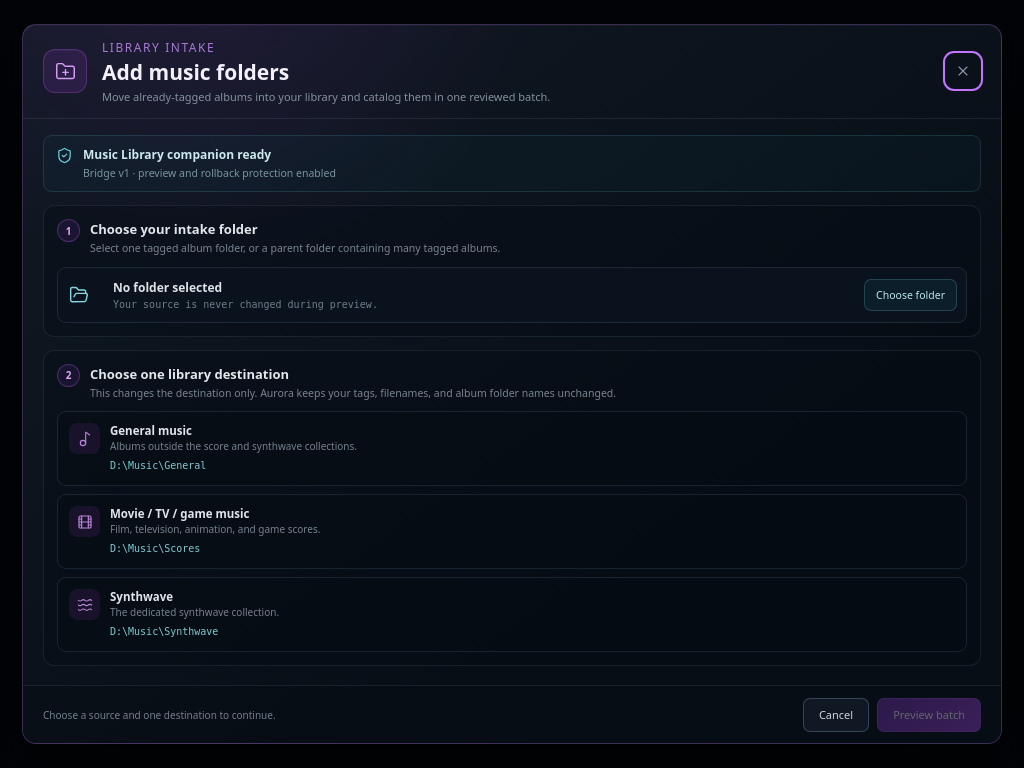
Test case: AddFolderDialog › invalidates a stale preview when the same source folder is chosen again
Expected: the text "Music Library companion ready" is shown, [83, 146, 271, 163]
Click the button "Choose folder" at (911, 295), box [864, 279, 957, 311]
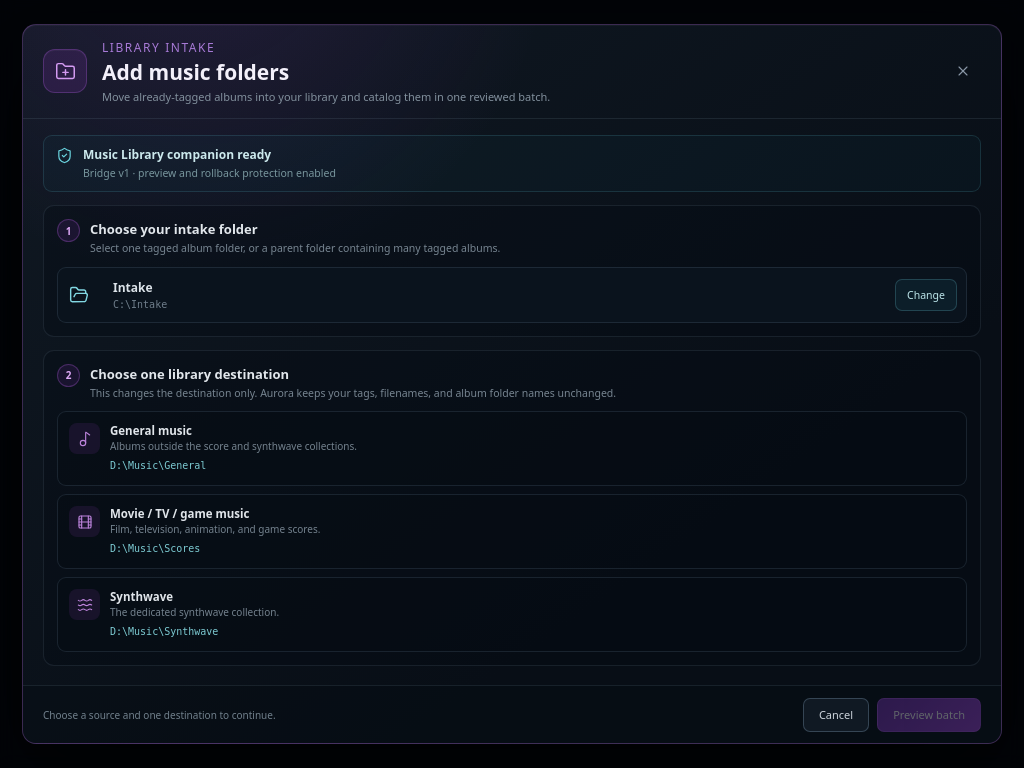
Now the text "C:\\Intake" is shown, box [113, 299, 167, 310]
Click the radio button labelled "Movie / TV / game music" at (84, 522), box [57, 494, 967, 570]
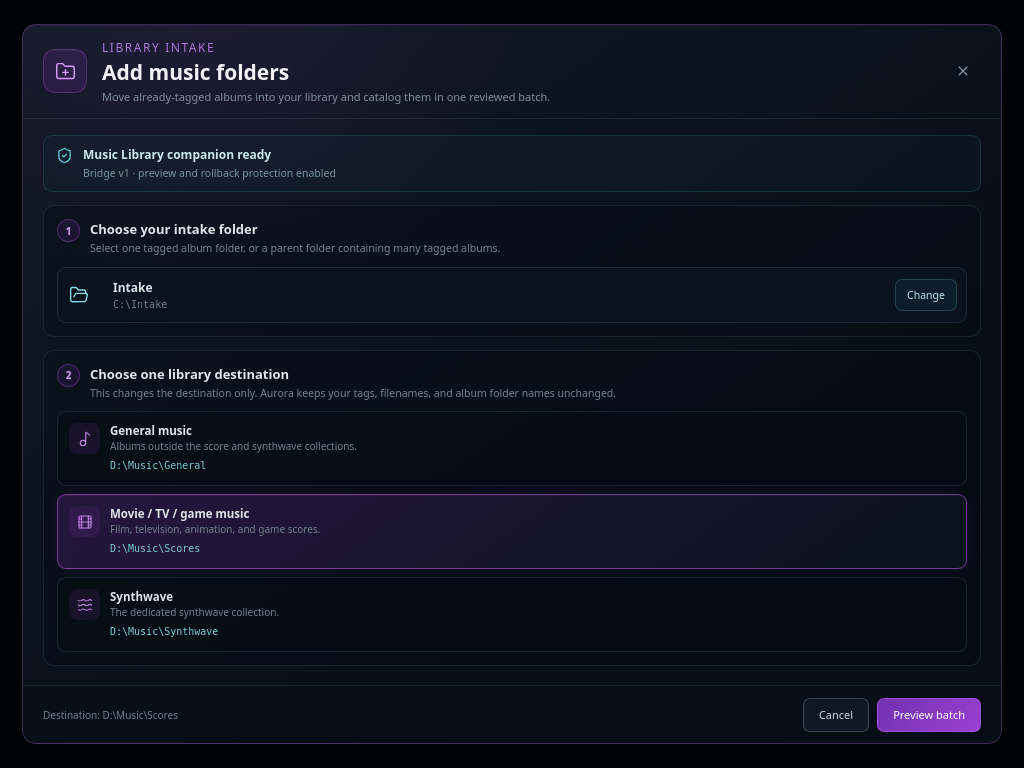
Click the button "Preview batch" at (929, 715), box [877, 698, 981, 732]
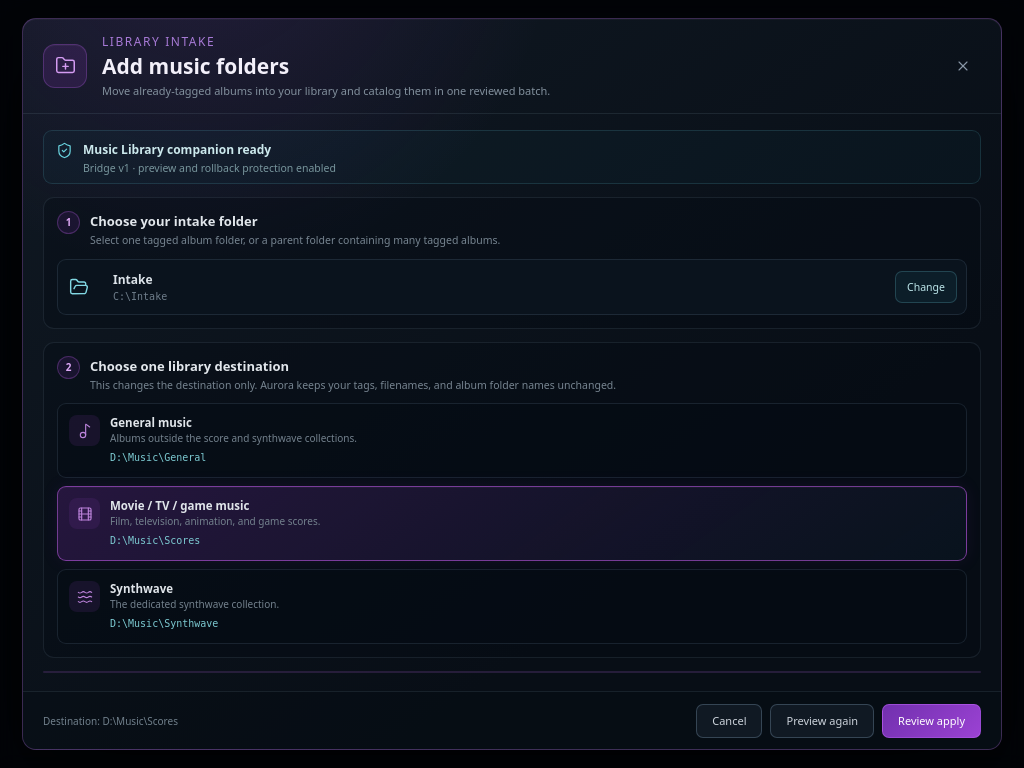
Click the button "Change" at (926, 286), box [895, 270, 957, 302]
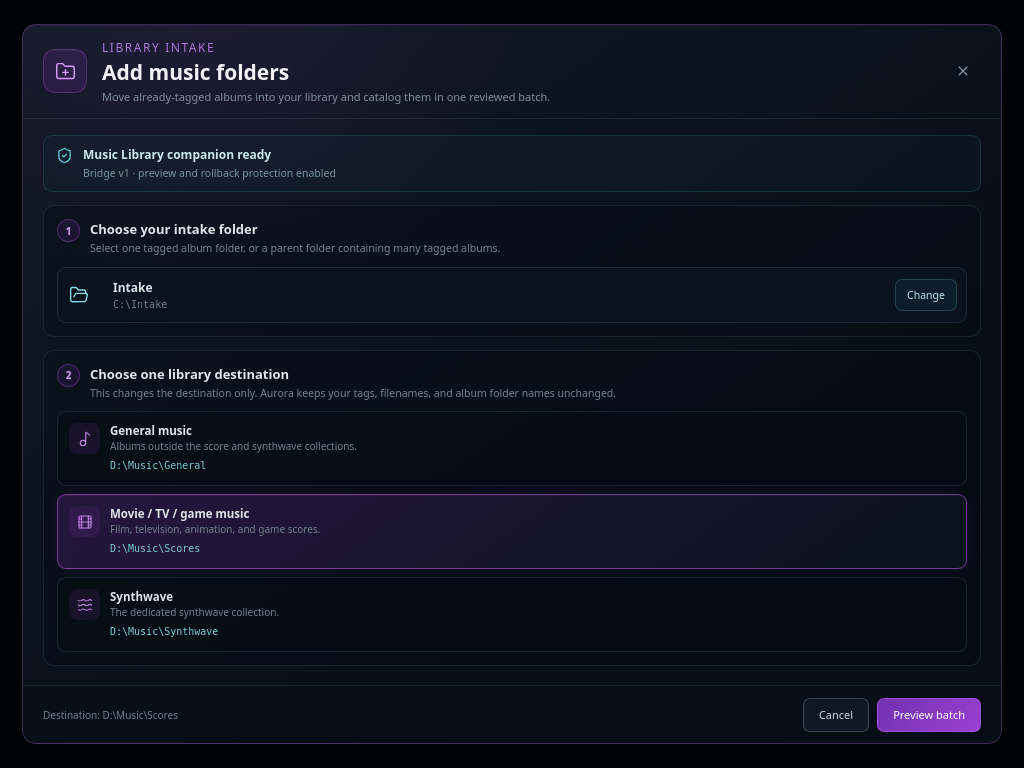
Expected: the heading "2 albums · 19 tracks" is not shown
Now the button "Preview batch" is enabled, box [877, 698, 981, 732]
